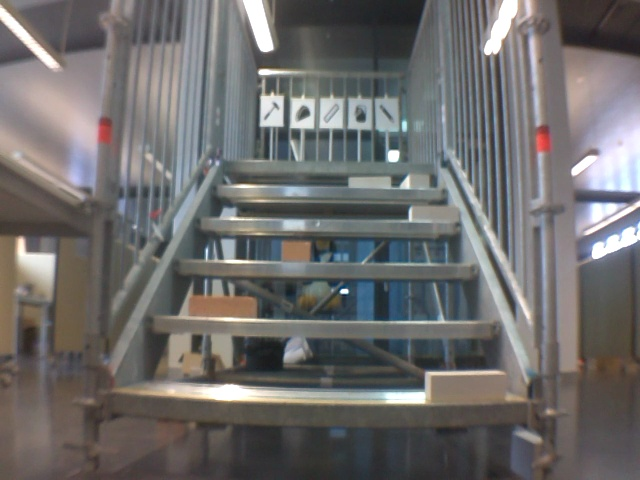brick: (424, 371, 506, 402), (189, 295, 256, 317), (409, 207, 459, 221), (283, 242, 310, 262), (348, 177, 389, 188), (402, 174, 429, 188)
bucket: (352, 102, 370, 124)
edge: (109, 392, 530, 425), (144, 316, 501, 339), (173, 259, 479, 278), (194, 219, 463, 233), (210, 186, 448, 199), (222, 160, 437, 172)
hammer: (261, 101, 280, 123)
pencil: (378, 101, 396, 127)
ruler: (321, 101, 339, 124)
stairs: (82, 1, 560, 471)
steps: (101, 158, 533, 430)
taco: (293, 101, 311, 124)
